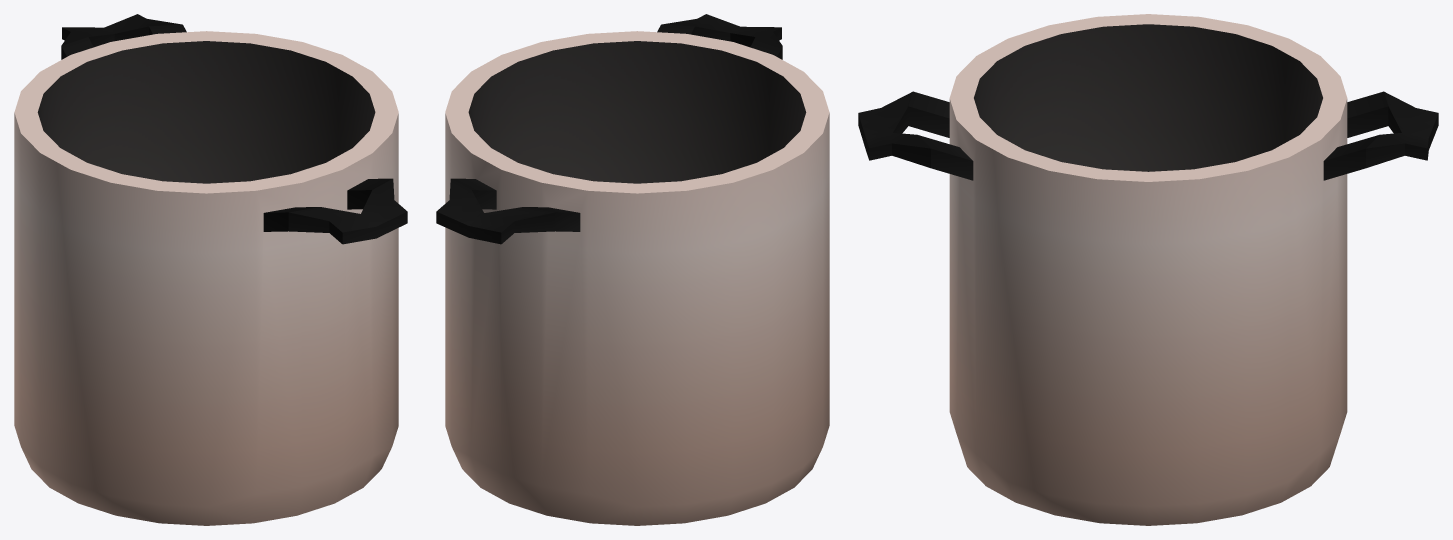
File: Big Pot.fbx
The picture shows the model from 3 angles, left to right: view 1: azimuth 30°, elevation 25°; view 2: azimuth 150°, elevation 25°; view 3: azimuth 270°, elevation 25°; orthographic projection. The views are drawn at different scales.
Visible parts, largest first — view 1: Pot Big; view 2: Pot Big; view 3: Pot Big.
Part boxes in pixels (x1,y1,x2,y2): Pot Big: [14, 14, 407, 525]; Pot Big: [436, 14, 829, 525]; Pot Big: [858, 14, 1438, 525].
Bounding box in the file's own units: 200 × 199 × 292.
